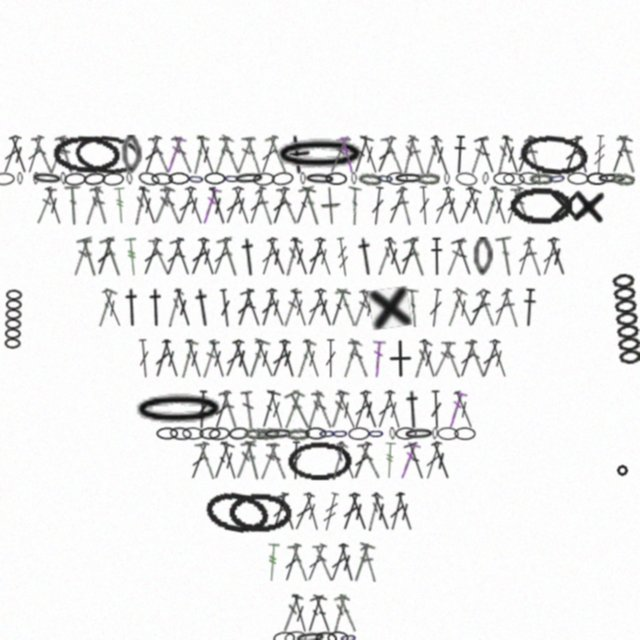chain: (130, 390, 228, 430), (271, 135, 369, 175), (202, 487, 273, 537), (73, 132, 144, 178), (518, 132, 589, 177), (52, 134, 120, 175), (228, 492, 293, 532), (509, 186, 574, 226), (287, 441, 353, 480), (121, 135, 142, 174), (473, 237, 493, 276), (31, 171, 63, 186), (233, 171, 265, 186), (262, 427, 294, 441), (403, 427, 435, 441), (304, 172, 336, 186), (137, 170, 161, 188), (393, 172, 425, 185), (596, 172, 628, 185), (255, 426, 280, 441), (83, 171, 106, 187), (455, 171, 478, 187), (169, 426, 192, 441), (208, 426, 231, 441), (271, 171, 294, 186), (518, 171, 541, 186), (286, 427, 310, 441), (358, 172, 382, 186), (611, 172, 635, 186), (294, 630, 327, 640), (228, 426, 250, 441), (244, 427, 268, 440), (416, 172, 440, 185), (529, 172, 553, 185), (64, 172, 86, 186), (102, 172, 124, 186), (151, 172, 173, 186), (253, 172, 275, 186), (503, 172, 525, 186), (156, 427, 178, 440), (182, 427, 204, 440), (199, 427, 221, 440), (305, 427, 327, 440), (348, 427, 370, 440), (395, 427, 417, 440), (437, 427, 459, 440), (454, 427, 476, 440), (168, 172, 190, 185), (204, 172, 226, 185), (325, 172, 347, 185), (386, 172, 408, 185), (493, 172, 515, 185), (567, 172, 589, 185), (586, 172, 608, 185), (376, 171, 395, 186), (548, 171, 567, 186), (187, 172, 205, 186), (318, 427, 336, 440), (331, 427, 349, 440), (367, 427, 385, 440), (223, 172, 241, 185), (284, 630, 307, 640), (0, 172, 15, 186), (273, 631, 295, 640), (315, 631, 337, 640), (327, 631, 349, 640), (339, 631, 358, 640), (389, 427, 396, 440), (60, 172, 67, 185), (126, 172, 133, 185), (482, 172, 489, 185), (432, 427, 438, 440), (17, 172, 23, 185), (33, 172, 39, 185), (300, 172, 306, 185), (351, 172, 357, 185), (444, 172, 450, 185)
double: (284, 389, 316, 431), (453, 185, 483, 227), (309, 593, 337, 635), (348, 542, 376, 584), (208, 440, 236, 482), (243, 338, 271, 380), (239, 287, 267, 329), (99, 236, 127, 278), (216, 236, 244, 278), (403, 236, 431, 278), (450, 236, 478, 278), (298, 185, 326, 227), (473, 134, 501, 176), (606, 134, 634, 176), (278, 389, 306, 430), (274, 491, 301, 533), (403, 440, 430, 482), (325, 287, 352, 329), (76, 236, 103, 278), (169, 236, 196, 278), (290, 185, 317, 227), (348, 134, 375, 176), (465, 288, 493, 328), (333, 593, 360, 634), (442, 287, 469, 328), (380, 134, 407, 175), (302, 593, 328, 635), (568, 134, 594, 176), (290, 492, 317, 532), (333, 390, 360, 430), (99, 288, 126, 328), (356, 288, 383, 328), (450, 288, 477, 328), (430, 186, 457, 226), (303, 542, 329, 583), (186, 440, 212, 481), (240, 440, 266, 481), (349, 440, 375, 481), (428, 440, 454, 481), (256, 389, 282, 430), (451, 389, 477, 430), (221, 338, 247, 379), (252, 338, 278, 379), (267, 338, 293, 379), (291, 338, 317, 379), (92, 287, 118, 328), (303, 287, 329, 328), (186, 236, 212, 277), (264, 236, 290, 277), (150, 185, 176, 226), (221, 185, 247, 226), (384, 185, 410, 226), (478, 185, 504, 226), (209, 134, 235, 175), (264, 134, 290, 175), (373, 134, 399, 175), (279, 593, 304, 634), (287, 542, 312, 583), (326, 542, 351, 583), (338, 491, 363, 532), (346, 491, 371, 532), (369, 491, 394, 532), (194, 440, 219, 481), (232, 440, 257, 481), (334, 440, 359, 481), (396, 440, 421, 481), (357, 389, 382, 430), (373, 389, 398, 430), (338, 338, 363, 379), (455, 338, 480, 379), (478, 338, 503, 379), (264, 287, 289, 328), (334, 287, 359, 328), (490, 287, 515, 328), (139, 236, 164, 277), (162, 236, 187, 277), (209, 236, 234, 277), (396, 236, 421, 277), (545, 236, 570, 277), (174, 185, 199, 226), (182, 185, 207, 226), (229, 185, 254, 226), (463, 185, 488, 226), (6, 134, 31, 175), (162, 134, 187, 175), (194, 134, 219, 175), (428, 134, 453, 175), (513, 134, 538, 175), (560, 134, 585, 175), (357, 441, 382, 481), (280, 542, 304, 583), (393, 491, 417, 532), (421, 440, 445, 481), (210, 389, 234, 430), (218, 389, 242, 430), (350, 389, 374, 430), (444, 389, 468, 430), (159, 338, 183, 379), (175, 338, 199, 379), (230, 338, 254, 379), (300, 338, 324, 379), (487, 338, 511, 379), (171, 287, 195, 328), (233, 287, 257, 328), (312, 287, 336, 328), (93, 236, 117, 277), (195, 236, 219, 277), (257, 236, 281, 277), (288, 236, 312, 277), (304, 236, 328, 277), (312, 236, 336, 277), (382, 236, 406, 277), (538, 236, 562, 277), (42, 185, 66, 226), (136, 185, 160, 226), (198, 185, 222, 226), (206, 185, 230, 226), (245, 185, 269, 226), (268, 185, 292, 226), (440, 185, 464, 226), (487, 185, 511, 226), (502, 185, 526, 226), (0, 134, 24, 175), (23, 134, 47, 175), (54, 134, 78, 175), (140, 134, 164, 175), (241, 134, 265, 175), (257, 134, 281, 175), (358, 134, 382, 175), (499, 134, 523, 175), (616, 134, 640, 175), (431, 339, 456, 378), (409, 339, 433, 379), (268, 491, 291, 532), (218, 440, 241, 481), (265, 389, 288, 430), (327, 389, 350, 430), (382, 389, 405, 430), (151, 338, 174, 379), (183, 338, 206, 379), (206, 338, 229, 379), (276, 338, 299, 379), (417, 338, 440, 379), (257, 287, 280, 328), (288, 287, 311, 328), (495, 236, 518, 277), (514, 236, 537, 277), (89, 185, 112, 226), (187, 134, 210, 175), (148, 237, 172, 276), (327, 135, 351, 174), (311, 390, 334, 430), (280, 237, 303, 277), (444, 237, 467, 277), (522, 237, 545, 277), (276, 186, 299, 226), (31, 135, 54, 175), (148, 135, 171, 175), (171, 135, 194, 175), (289, 593, 311, 634), (336, 542, 358, 583), (301, 491, 323, 532), (386, 491, 408, 532), (336, 134, 358, 175), (312, 543, 335, 582), (475, 288, 498, 327), (374, 237, 397, 276), (34, 186, 57, 225), (510, 186, 533, 225), (328, 594, 350, 634), (258, 441, 280, 481), (266, 441, 288, 481), (348, 339, 370, 379), (441, 339, 463, 379), (465, 339, 487, 379), (351, 288, 373, 328), (500, 288, 522, 328), (82, 186, 104, 226), (160, 186, 182, 226), (254, 186, 276, 226), (47, 135, 69, 175), (219, 135, 241, 175), (234, 135, 256, 175), (406, 135, 428, 175), (359, 543, 380, 583), (328, 441, 349, 481), (304, 390, 325, 430), (164, 288, 185, 328), (281, 288, 302, 328), (71, 237, 92, 277), (129, 186, 150, 226), (398, 135, 419, 175), (422, 135, 443, 175), (468, 135, 489, 175), (492, 135, 513, 175), (523, 135, 544, 175), (364, 492, 384, 532), (200, 339, 220, 379), (395, 186, 415, 226), (64, 186, 83, 225), (240, 390, 258, 430), (217, 288, 234, 328), (427, 288, 444, 328), (369, 186, 386, 226), (136, 339, 152, 378), (370, 339, 386, 378), (405, 288, 421, 327), (195, 390, 210, 429), (347, 186, 362, 225), (417, 186, 432, 225), (289, 441, 303, 480), (429, 390, 443, 429), (324, 339, 337, 378)
enseble_chain: (609, 272, 640, 367), (3, 289, 23, 350)
half_double: (190, 287, 216, 328), (353, 236, 379, 277), (237, 237, 261, 277), (402, 390, 424, 429), (121, 288, 143, 327), (145, 288, 167, 327), (521, 288, 538, 327), (451, 135, 468, 174), (429, 237, 444, 276)
noise: (616, 464, 629, 477)
single: (368, 286, 412, 330), (570, 185, 608, 226), (381, 339, 420, 378), (545, 186, 584, 225), (279, 134, 313, 176), (320, 186, 342, 226)
treble: (320, 492, 341, 532), (334, 237, 352, 277), (124, 237, 140, 277), (265, 543, 280, 582), (113, 186, 128, 225), (592, 135, 607, 174), (383, 441, 397, 480)
